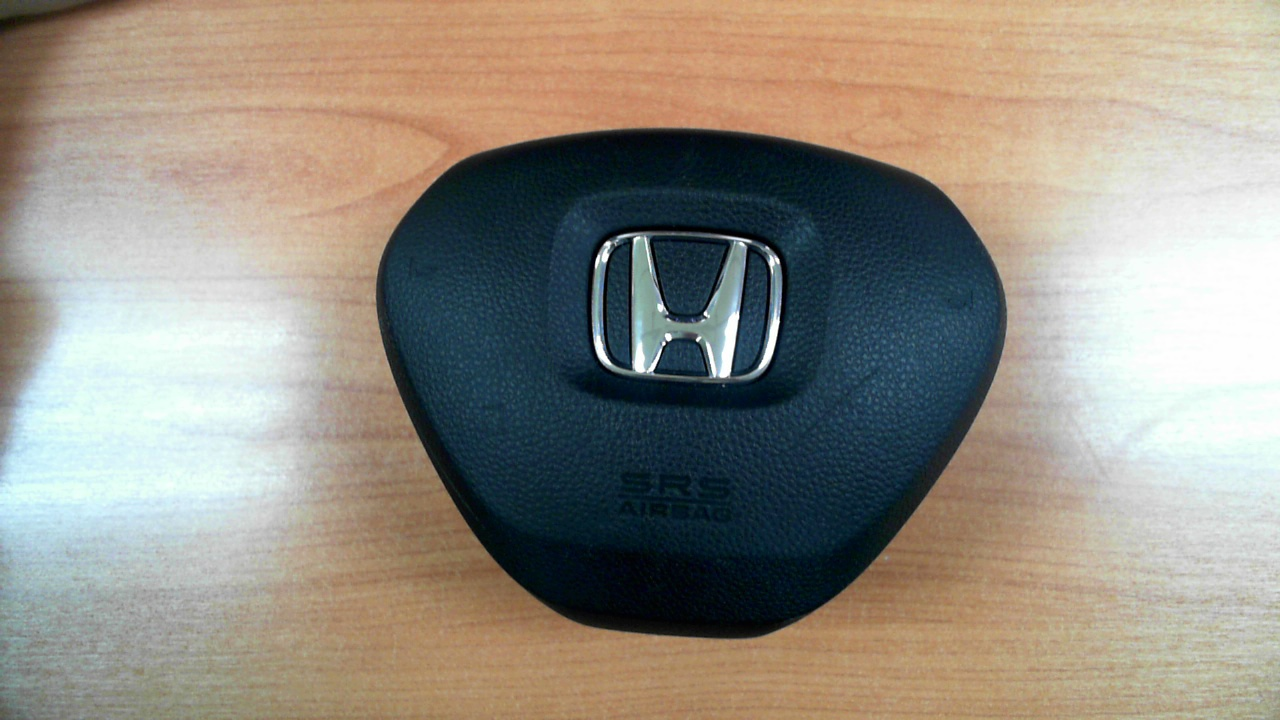Airbag: (374, 128, 1008, 638)
Honda: (590, 230, 784, 388)
